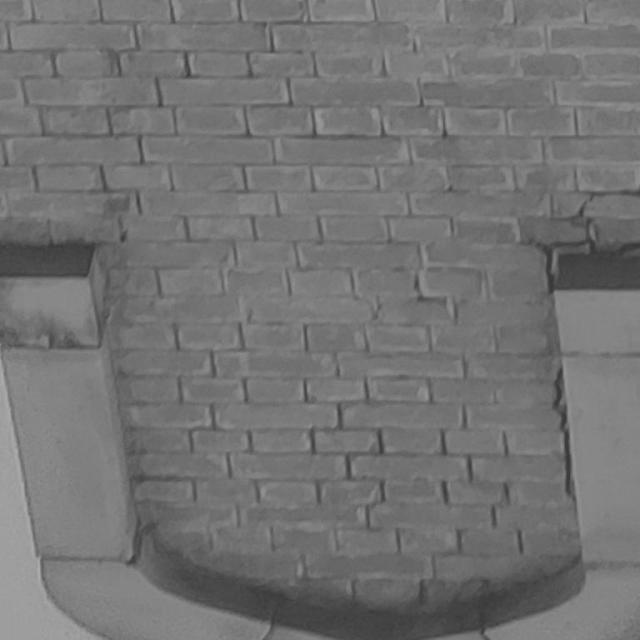crack: (533, 188, 639, 294), (553, 368, 575, 502)
